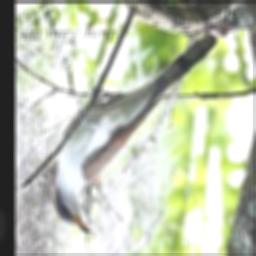Cuckoo: (54, 34, 218, 233)
